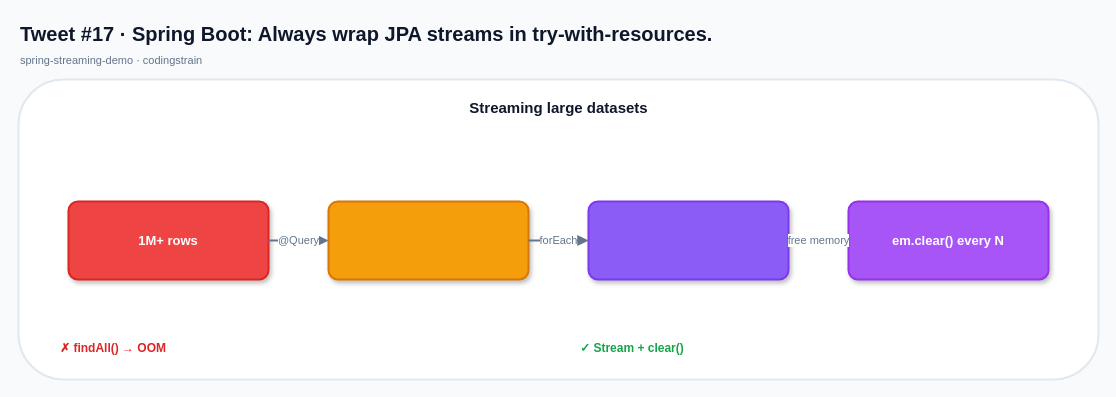
Image size: 1116x397. Some labels were removed from this diagram. The centre of each missing label's shape, as x and y in pixels:
process(): the point at 689,241
Stream<User>: the point at 429,241
